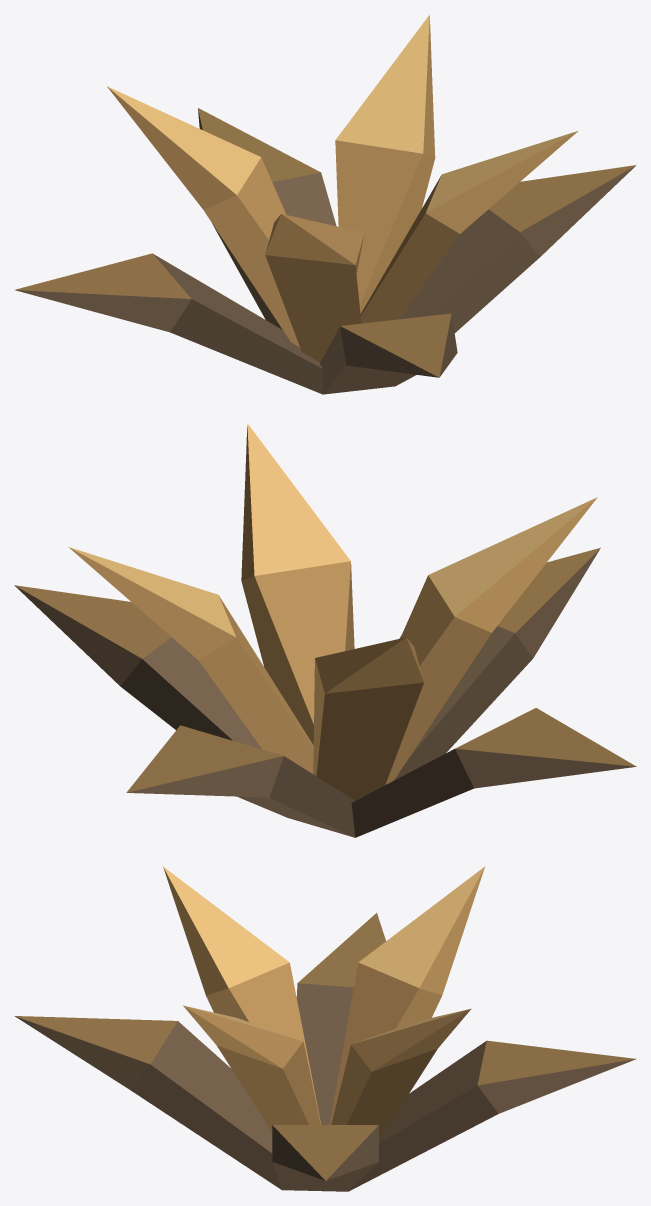
Rendered from TB_D_Env_GrassA_B.FBX.
The picture shows the model from 3 angles, top to bottom: view 1: azimuth 30°, elevation 25°; view 2: azimuth 150°, elevation 25°; view 3: azimuth 270°, elevation 25°; orthographic projection. The views are drawn at different scales.
Parts seen in each view (by area): view 1: TB_D_Env_GrassA_B; view 2: TB_D_Env_GrassA_B; view 3: TB_D_Env_GrassA_B.
Part boxes in pixels (bbox=[...]): TB_D_Env_GrassA_B: bbox=[15, 15, 636, 394]; TB_D_Env_GrassA_B: bbox=[14, 423, 636, 837]; TB_D_Env_GrassA_B: bbox=[14, 866, 636, 1191].
Bounding box in the file's own units: 1.39 × 0.5867 × 1.36.
